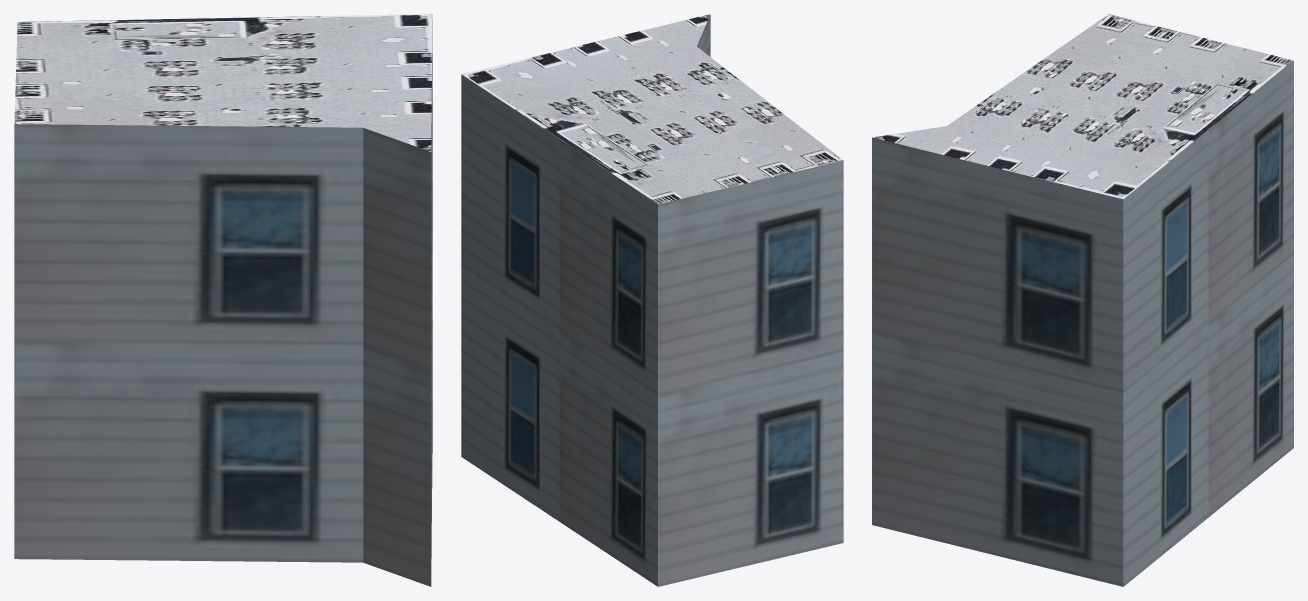
The model's file is ResTex__4218.fbx.
3 renders of one model, left to right at view 1: azimuth 30°, elevation 25°; view 2: azimuth 150°, elevation 25°; view 3: azimuth 270°, elevation 25°, orthographic. The views are drawn at different scales.
Visible parts, largest first — view 1: CityEngineMaterial_18_m, CityEngineMaterial_m; view 2: CityEngineMaterial_18_m, CityEngineMaterial_m; view 3: CityEngineMaterial_18_m, CityEngineMaterial_m.
Boxes of the visible parts, x1,y1,x2,y2 form: CityEngineMaterial_18_m: (14,19,432,586); CityEngineMaterial_m: (14,14,432,151); CityEngineMaterial_18_m: (461,14,843,586); CityEngineMaterial_m: (461,14,843,204); CityEngineMaterial_18_m: (872,61,1293,586); CityEngineMaterial_m: (872,14,1293,199).
Bounding box in the file's own units: 6.16 × 6 × 5.92.
Materials: 2 (2 with a texture image).
